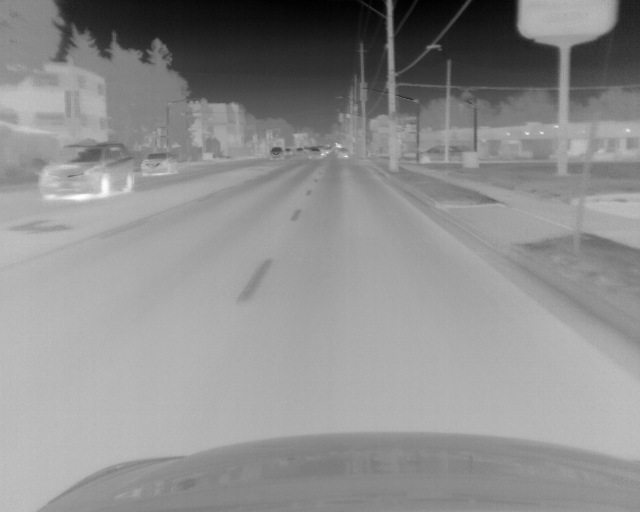car: (39, 142, 133, 200), (139, 150, 178, 176), (415, 145, 468, 164), (307, 146, 325, 160), (269, 146, 283, 160), (336, 148, 349, 159), (283, 148, 292, 158), (322, 146, 332, 155), (295, 147, 303, 154)
